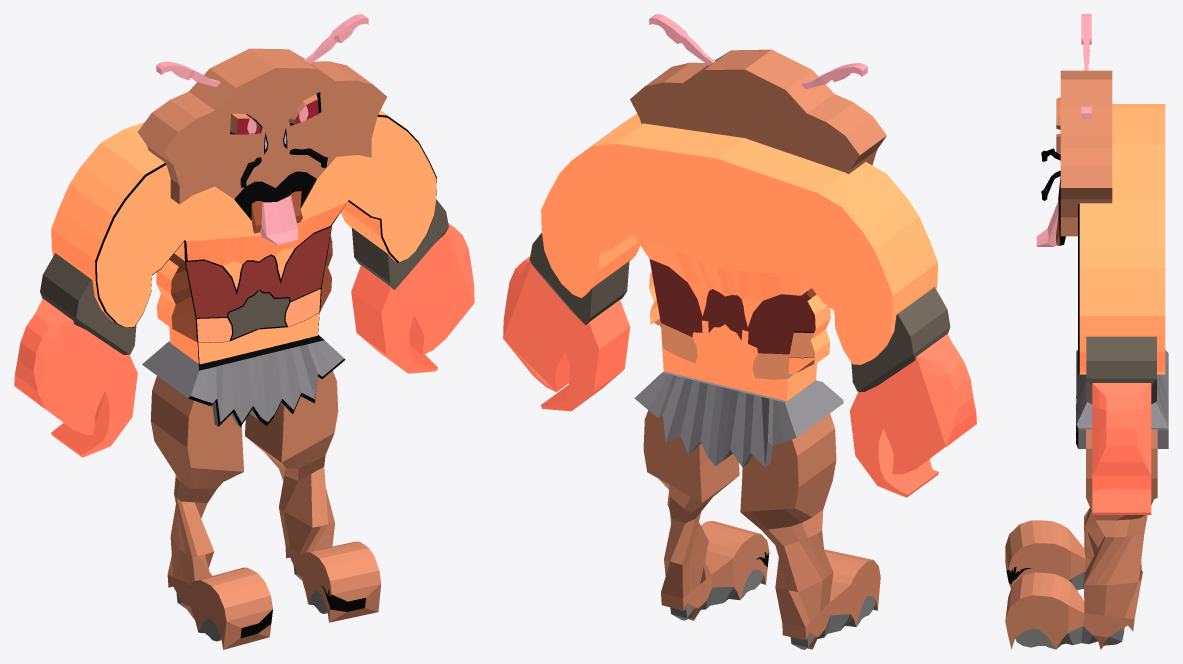
The model's file is lobstar.fbx.
3 views of the same model, side by side, from view 1: azimuth 30°, elevation 25°; view 2: azimuth 150°, elevation 25°; view 3: azimuth 270°, elevation 25° (orthographic). The views are drawn at different scales.
Visible parts, largest first — view 1: Body, Legs, Face, Hands, Wear; view 2: Body, Hands, Legs, Face, Wear; view 3: Body, Legs, Hands, Face, Wear.
Part boxes in pixels (<box>): Body: <box>51,110,436,364</box>; Legs: <box>150,371,381,649</box>; Face: <box>138,14,386,244</box>; Hands: <box>14,199,474,457</box>; Wear: <box>142,335,345,426</box>; Body: <box>541,113,937,400</box>; Hands: <box>503,232,976,497</box>; Legs: <box>643,410,880,649</box>; Face: <box>630,14,886,174</box>; Wear: <box>634,371,843,467</box>; Body: <box>1078,104,1165,374</box>; Legs: <box>1005,429,1157,649</box>; Hands: <box>1086,336,1156,514</box>; Face: <box>1036,14,1112,246</box>; Wear: <box>1076,350,1168,448</box>.
Size of the model in its own units: 230 by 287 by 75.91.
11 materials, 1 textured.
